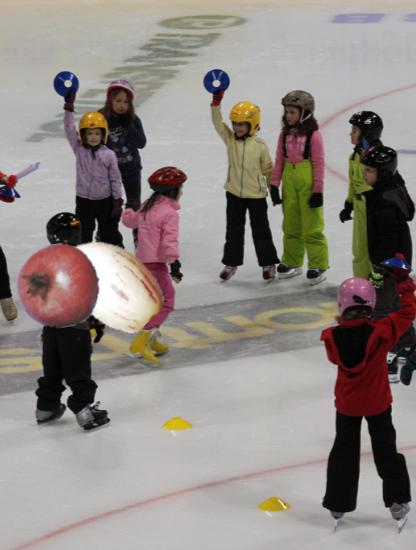Pepino: (57, 229, 166, 338)
Pomegranate: (16, 244, 101, 329)
